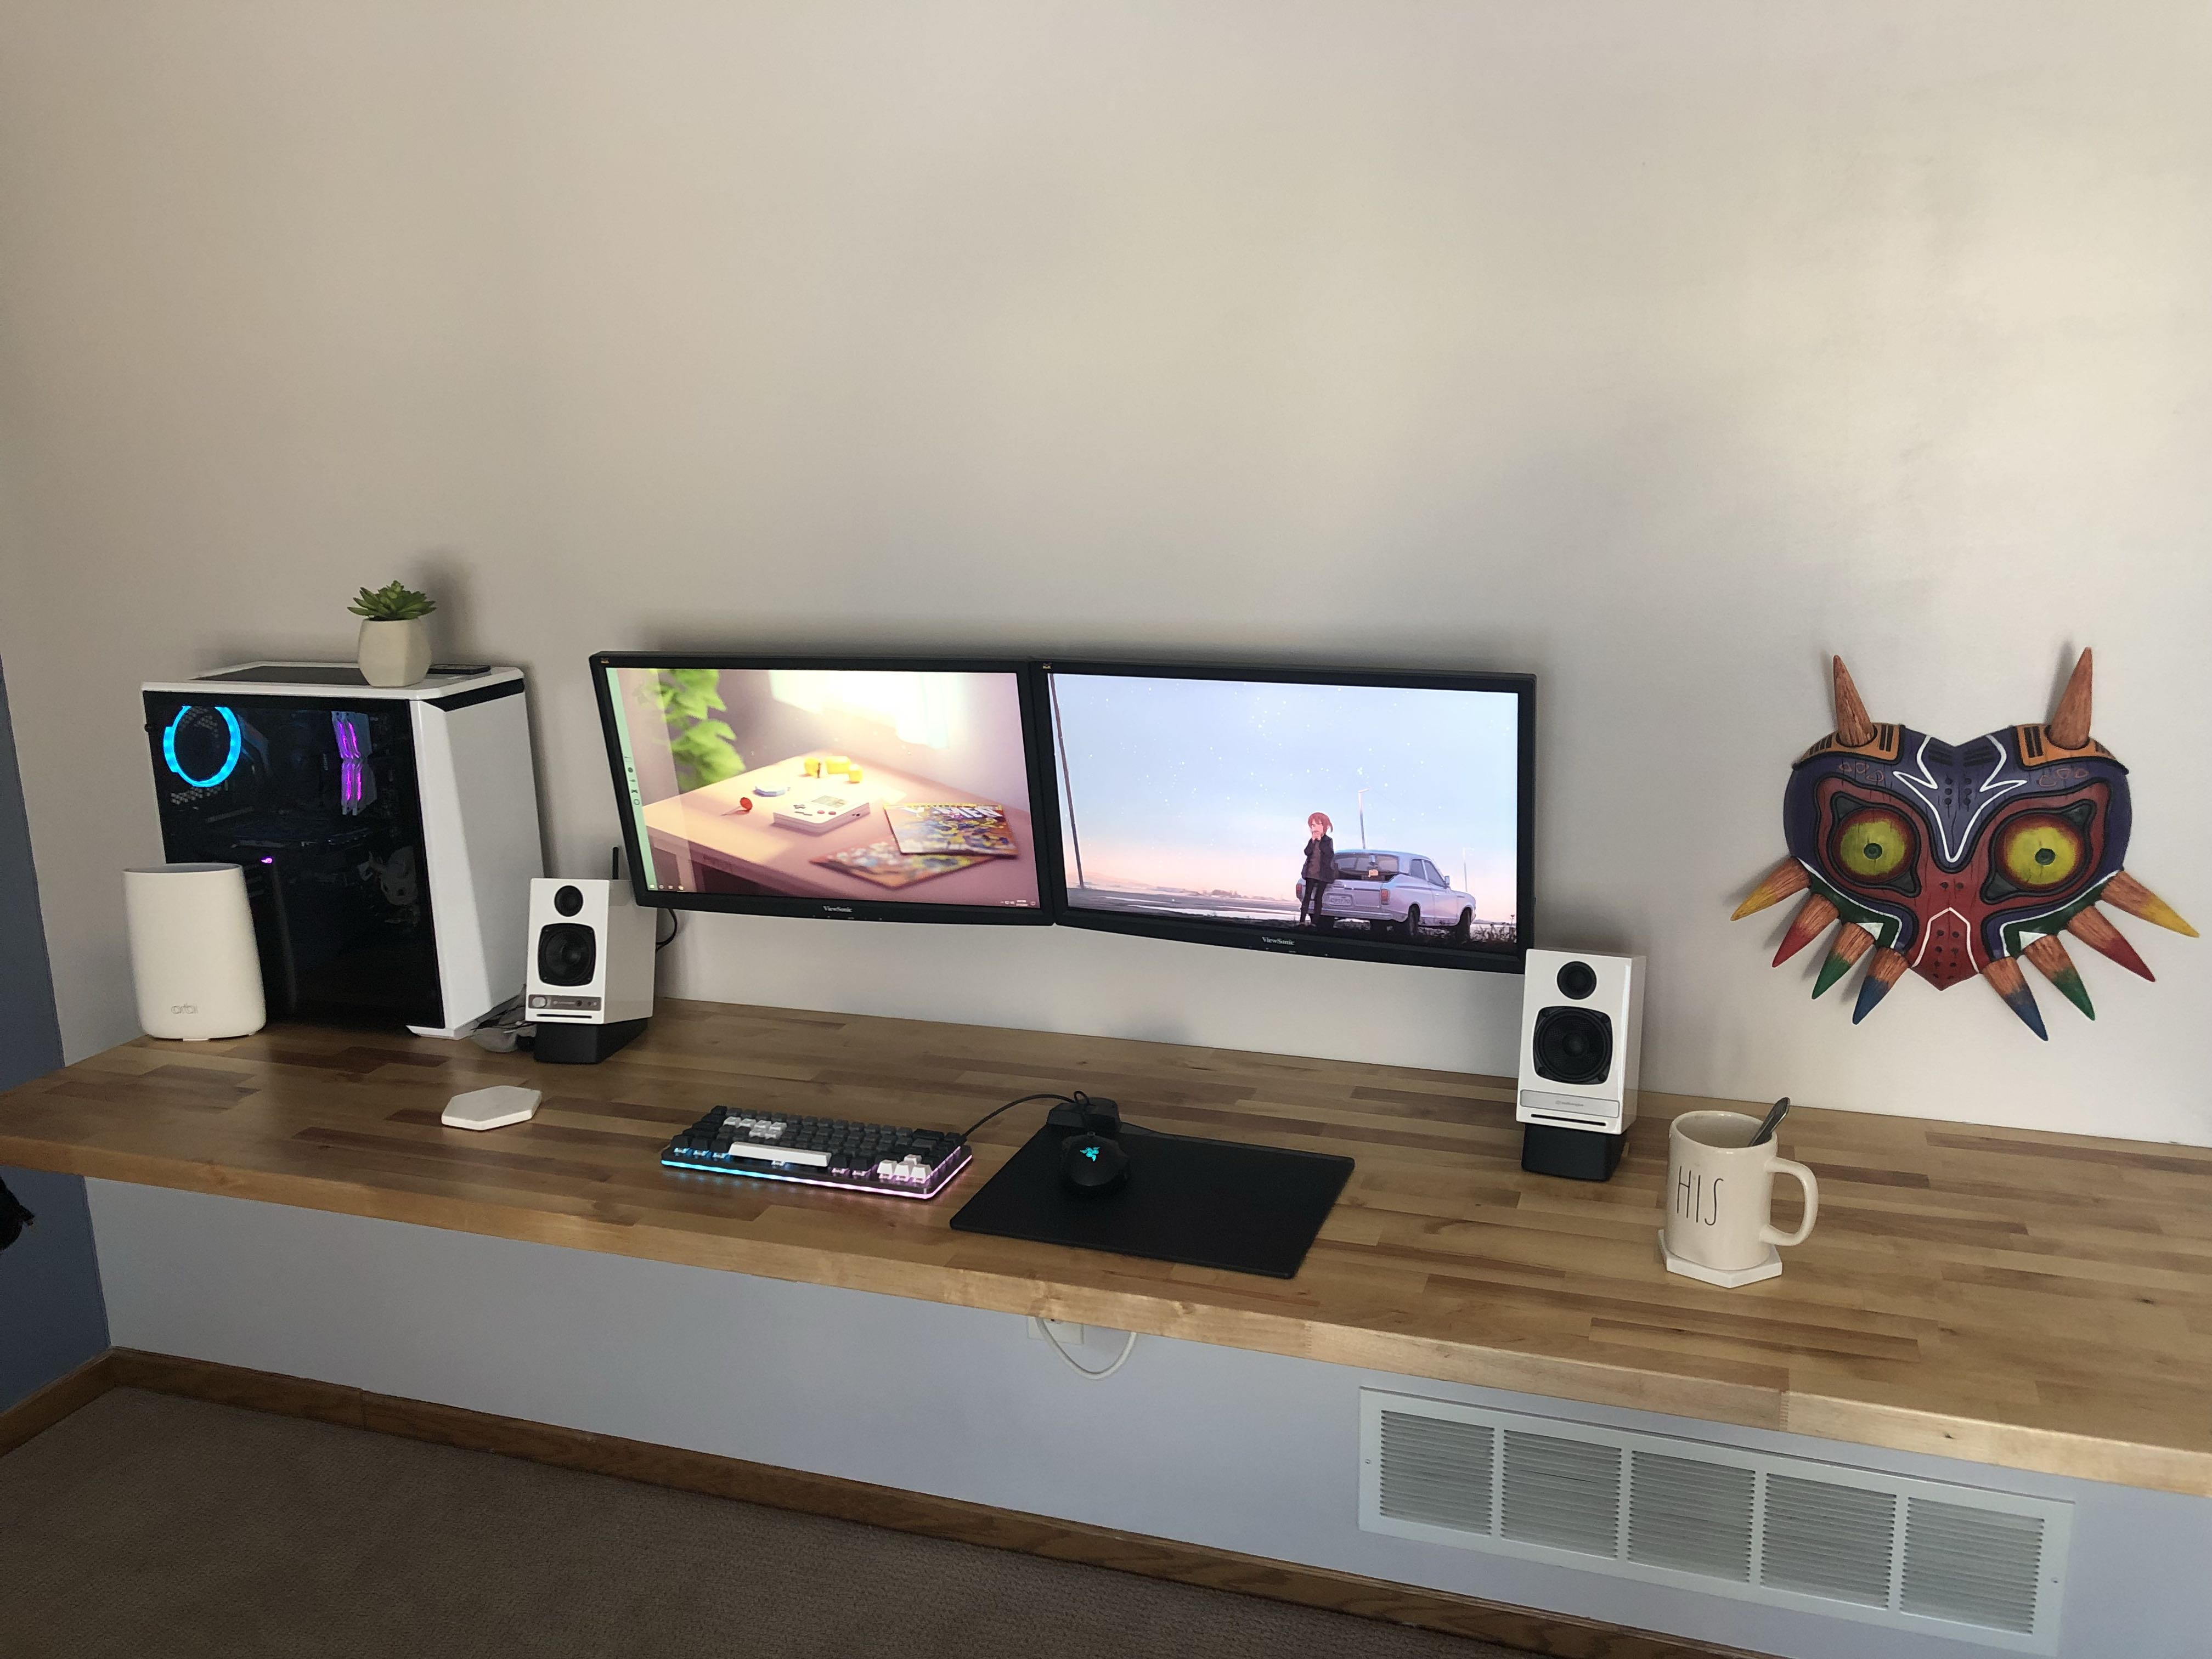Decoration (Generic): (1710, 636, 2212, 1053)
Decoration (Plant): (315, 573, 458, 702)
Desk (Generic): (16, 927, 2209, 1520)
Desktop (Windows): (131, 659, 554, 1033)
Drink Coaster: (1641, 1222, 1784, 1290), (439, 1082, 543, 1127)
External Speakers (Subwoofers): (1501, 941, 1651, 1190), (523, 857, 658, 1070)
Keyboard (Gaming): (658, 1087, 974, 1215)
Monitor (Landscape): (1036, 655, 1552, 974), (582, 647, 1061, 929)
Mouse (Gaming): (1047, 1122, 1127, 1197)
Mousepad (Generic): (953, 1117, 1371, 1298)
Mug: (1667, 1096, 1820, 1272)
